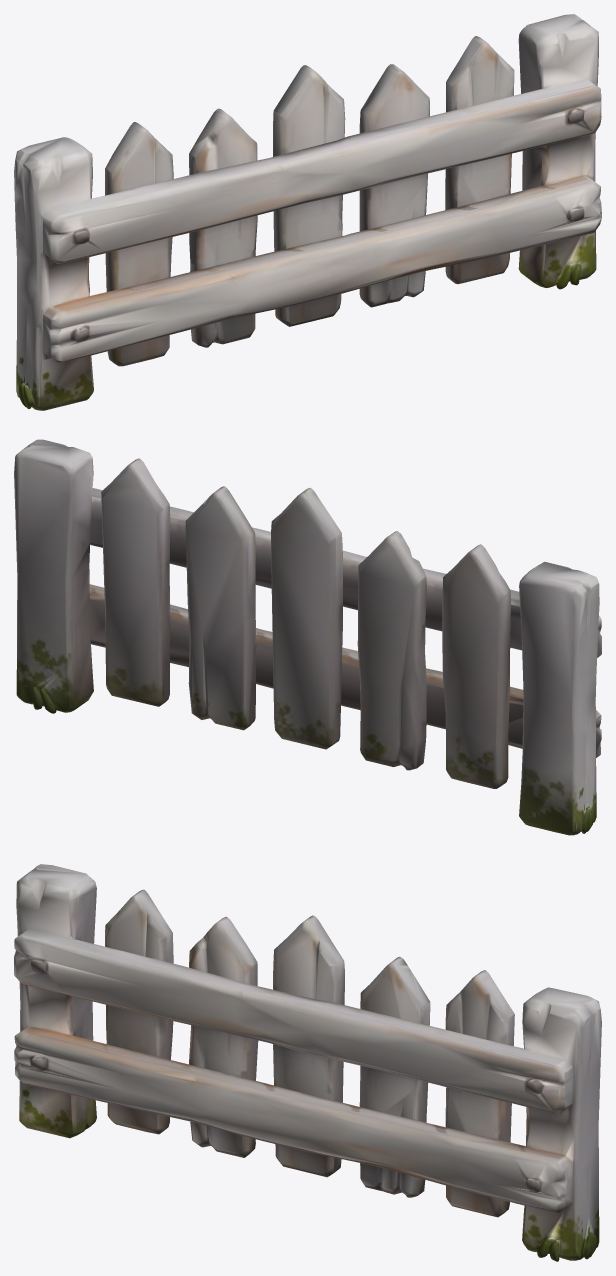
The model's file is picket-fence.glb.
The picture shows the model from 3 angles, top to bottom: view 1: azimuth 30°, elevation 25°; view 2: azimuth 150°, elevation 25°; view 3: azimuth 330°, elevation 25°; orthographic projection.
Visible parts, largest first — view 1: node_0; view 2: node_0; view 3: node_0.
Part boxes in pixels (x1,y1,x2,y2): node_0: [14, 14, 601, 410]; node_0: [14, 439, 601, 835]; node_0: [14, 864, 601, 1261].
Size of the model in its own units: 2.4 by 1.1 by 0.2758.
1 material, 1 textured.
